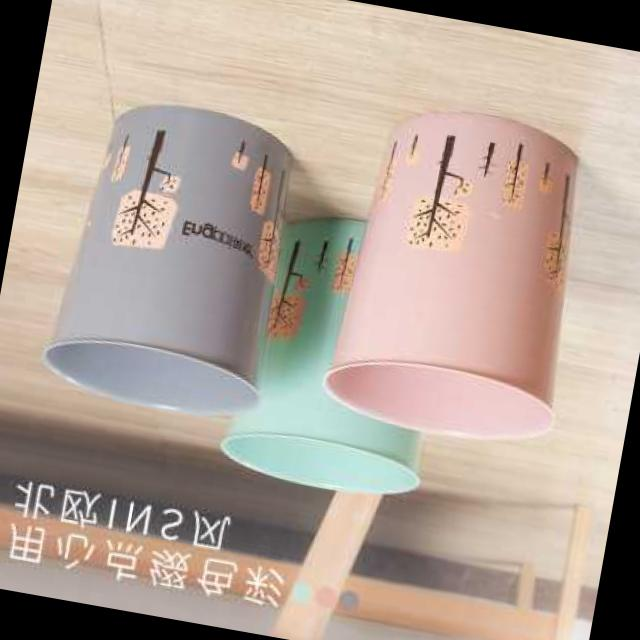dustbin: (316, 88, 610, 456), (37, 83, 310, 430), (215, 194, 473, 508)
